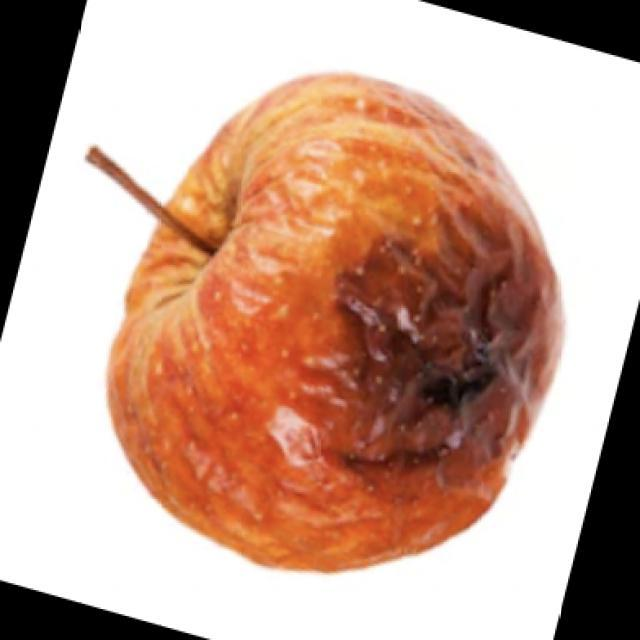Rotten: (90, 70, 568, 578)
